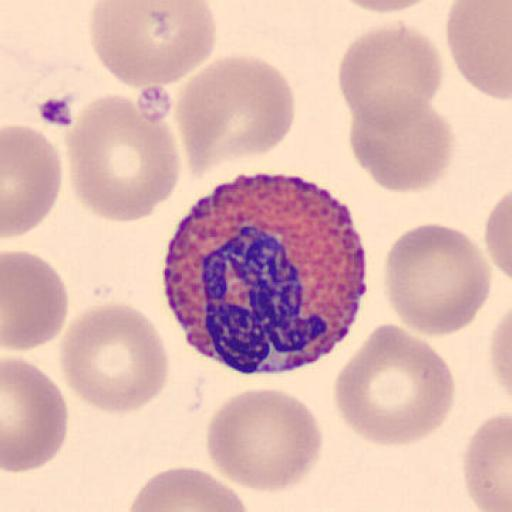RBC: (332, 321, 456, 448), (64, 90, 182, 223), (173, 54, 296, 178), (337, 20, 444, 142), (381, 221, 492, 338), (58, 301, 170, 416), (205, 386, 324, 494), (89, 0, 218, 89), (348, 92, 456, 193), (2, 356, 69, 473), (1, 124, 64, 240), (2, 249, 71, 352), (445, 0, 512, 102), (124, 465, 250, 512), (462, 409, 512, 512), (489, 308, 512, 446), (483, 188, 512, 285), (489, 306, 512, 408), (331, 1, 440, 15)
WBC: (161, 172, 369, 374)
